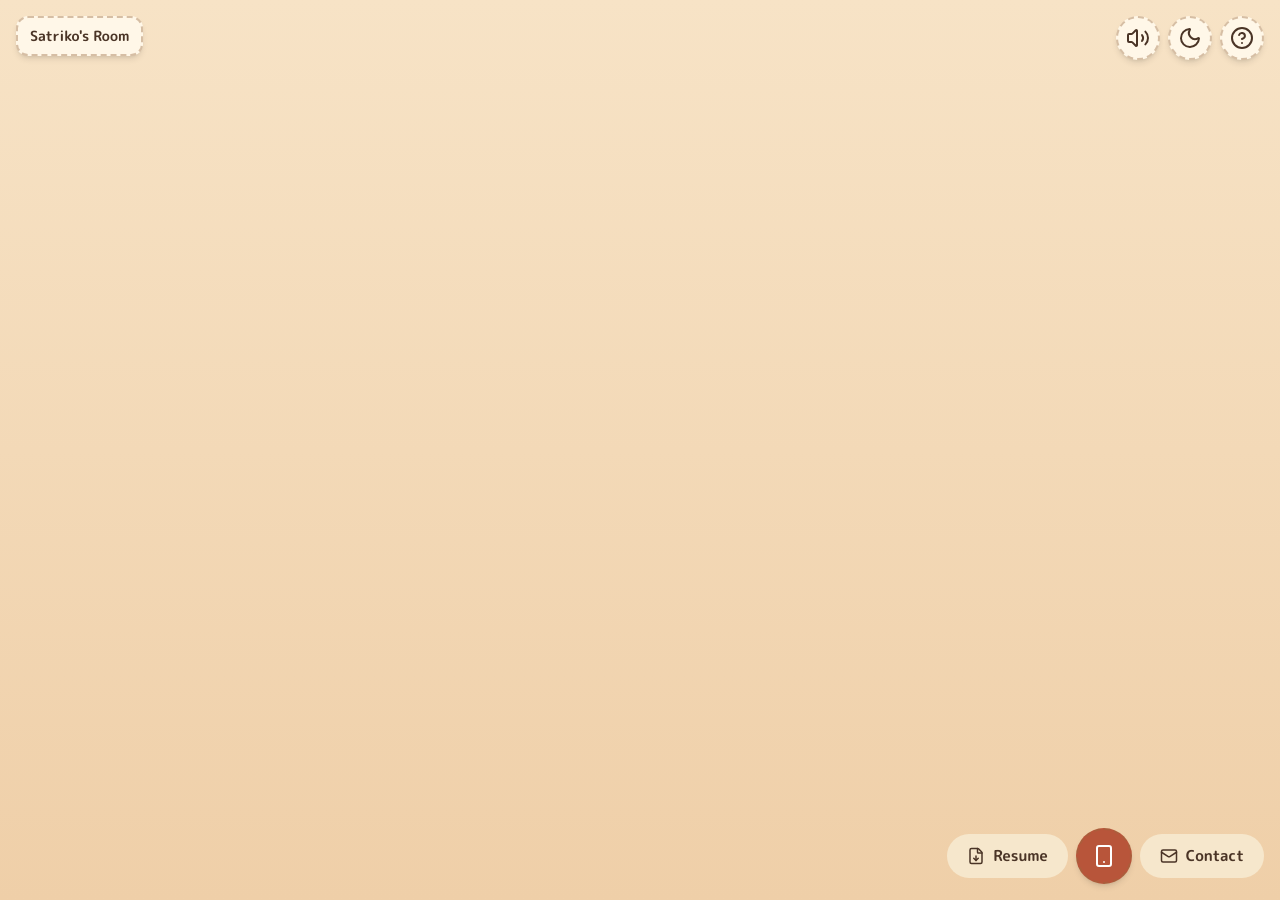
Scenario: Hud › the phone menu has its own close button outside the grid
Click the button named "Open phone menu" at (1104, 856), box x1=1076 y1=828 x2=1132 y2=884
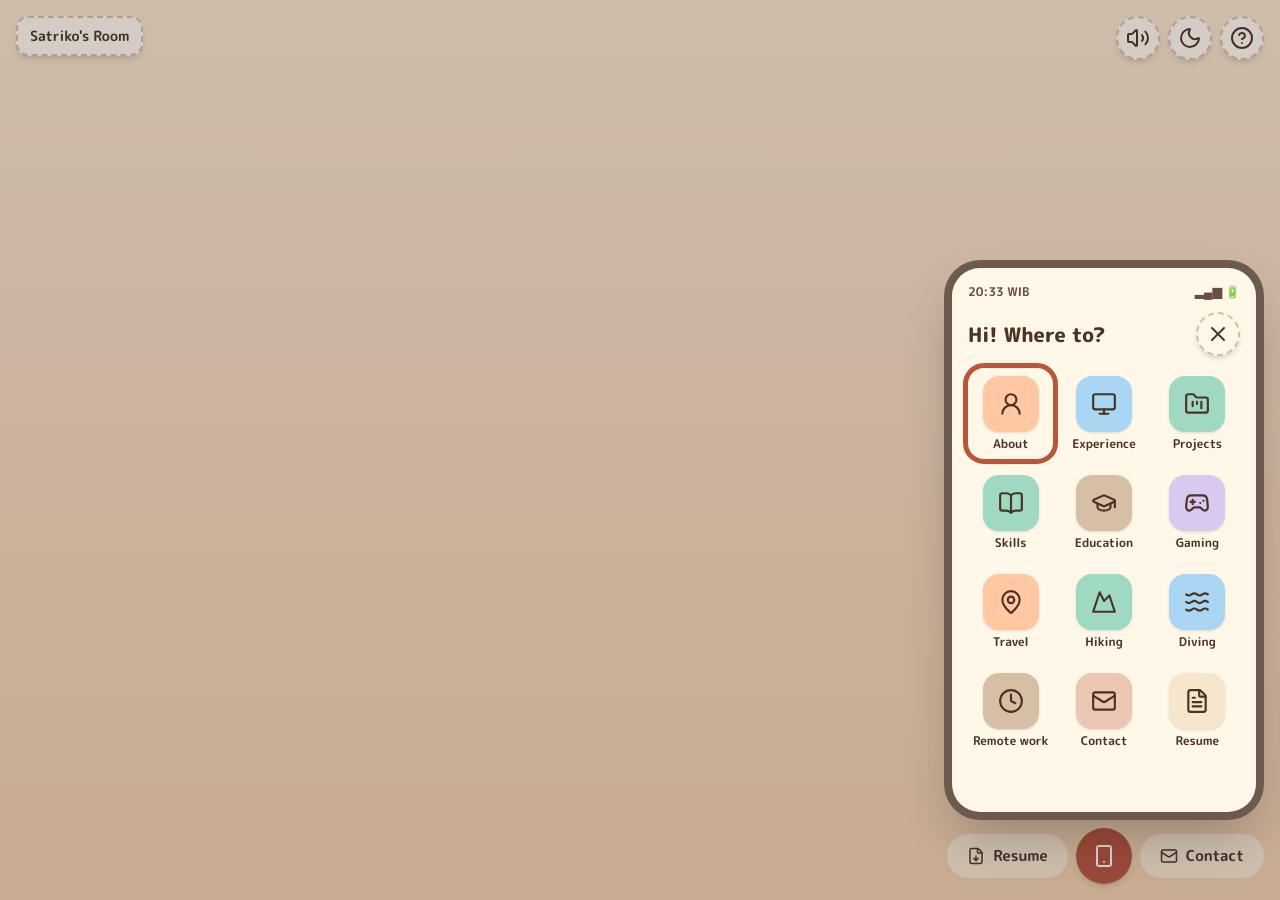
Check: the number of cells is 12
Click the button named "Close menu" at (1218, 334), box x1=1196 y1=312 x2=1240 y2=356
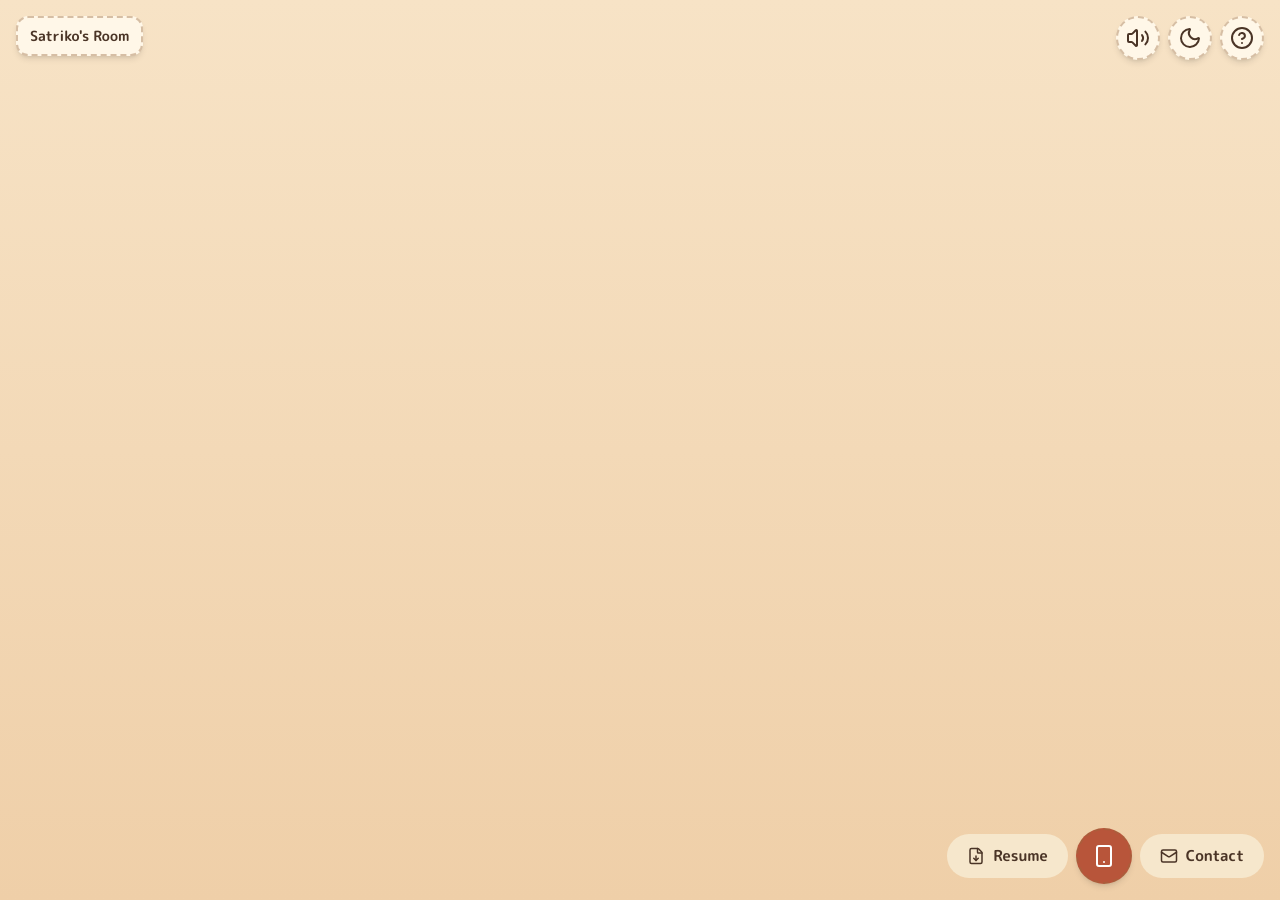
Check: the table "Sections" is gone
